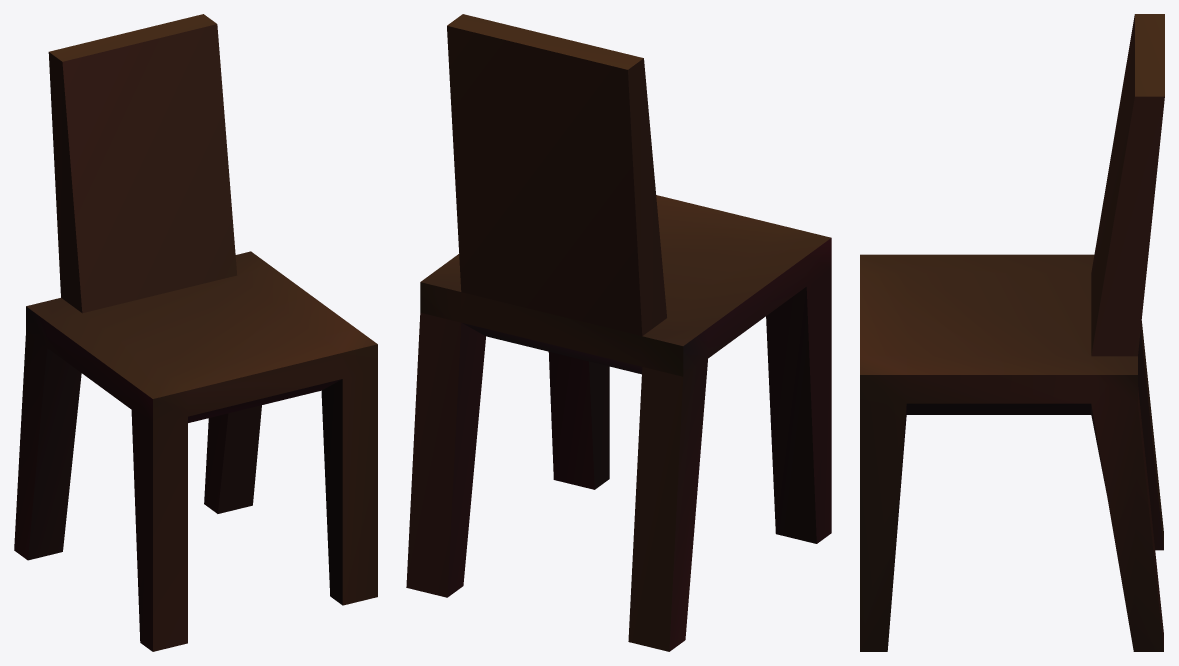
The model's file is chair.FBX.
3 renders of one model, left to right at view 1: azimuth 30°, elevation 25°; view 2: azimuth 150°, elevation 25°; view 3: azimuth 270°, elevation 25°, orthographic. The views are drawn at different scales.
Parts seen in each view (by area): view 1: chair; view 2: chair; view 3: chair.
Boxes of the visible parts, bbox=[...] form: chair: bbox=[14, 14, 377, 651]; chair: bbox=[406, 14, 831, 651]; chair: bbox=[860, 14, 1164, 651].
Bounding box in the file's own units: 0.528 × 1.1 × 0.5657.
